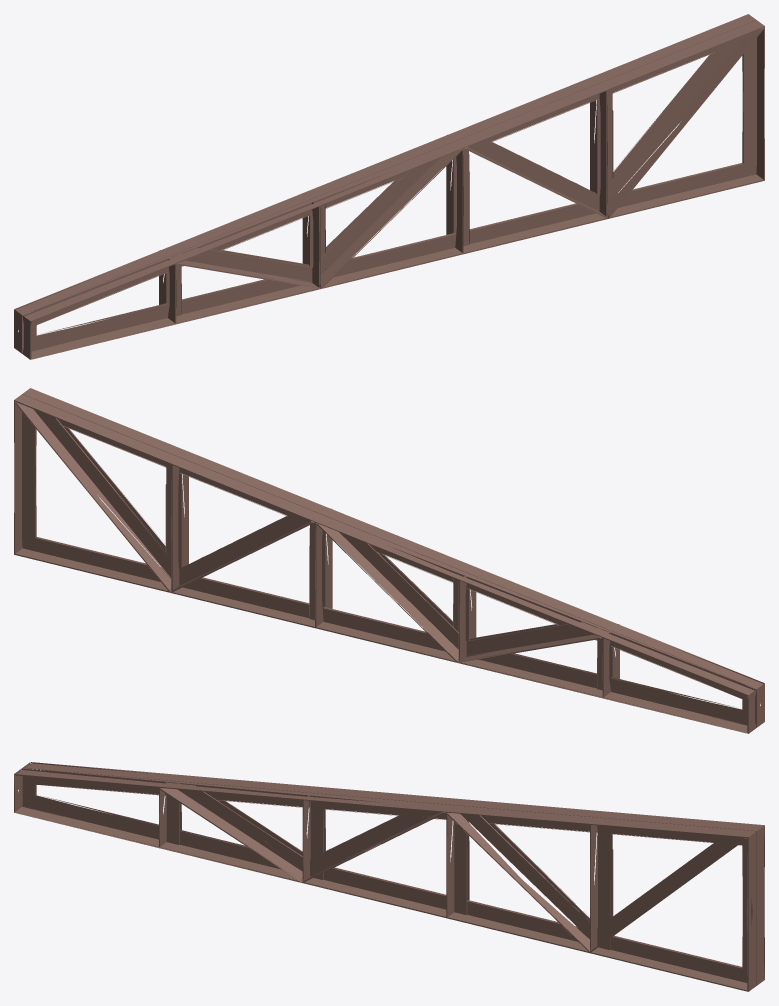
Rendered from dbl_truss.obj.
3 views of the same model, one above another, from view 1: azimuth 30°, elevation 25°; view 2: azimuth 150°, elevation 25°; view 3: azimuth 330°, elevation 25° (orthographic).
Bounding box in the file's own units: 156 × 31.5 × 7.04.
